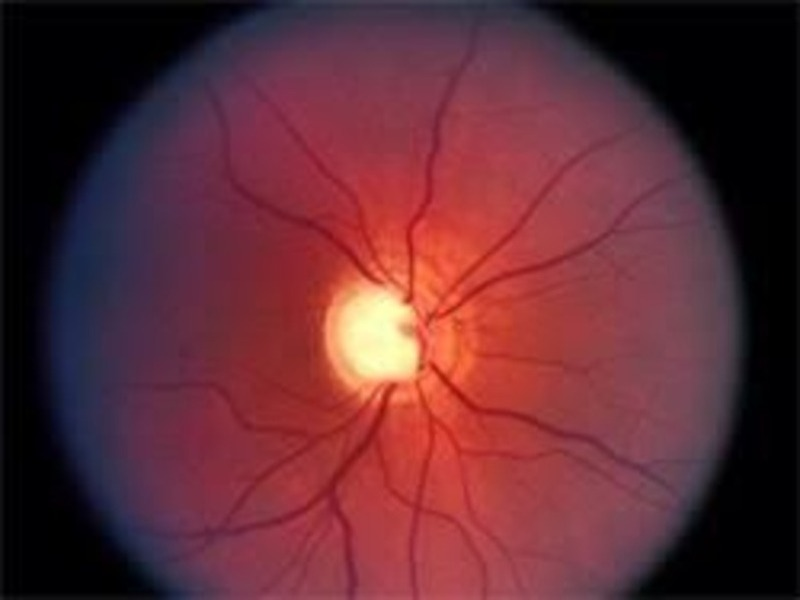Optic Cup: (325, 284, 421, 379)
Optic Disc: (321, 246, 474, 402)
